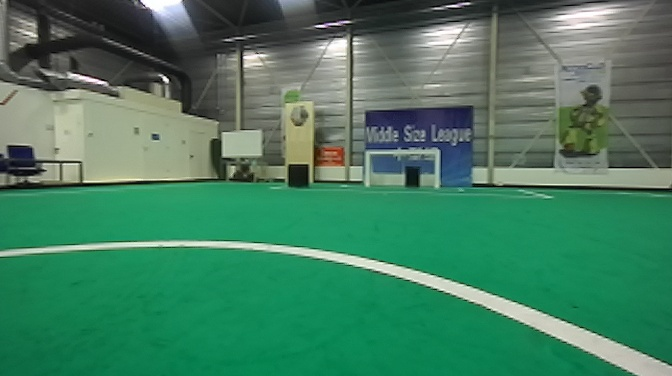goalpost: (432, 147, 441, 190), (361, 148, 368, 186)
